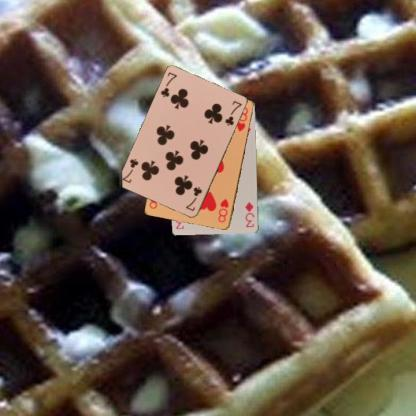3d: (243, 199, 255, 228)
7c: (184, 184, 204, 213), (158, 70, 178, 99)
8h: (216, 196, 230, 224)
